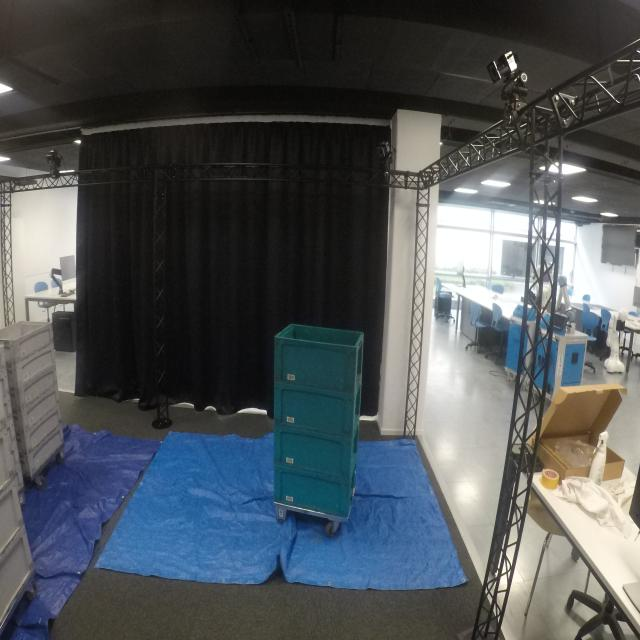BoxB4: (271, 322, 368, 399), (271, 464, 362, 527), (266, 426, 364, 481), (273, 383, 365, 439)
